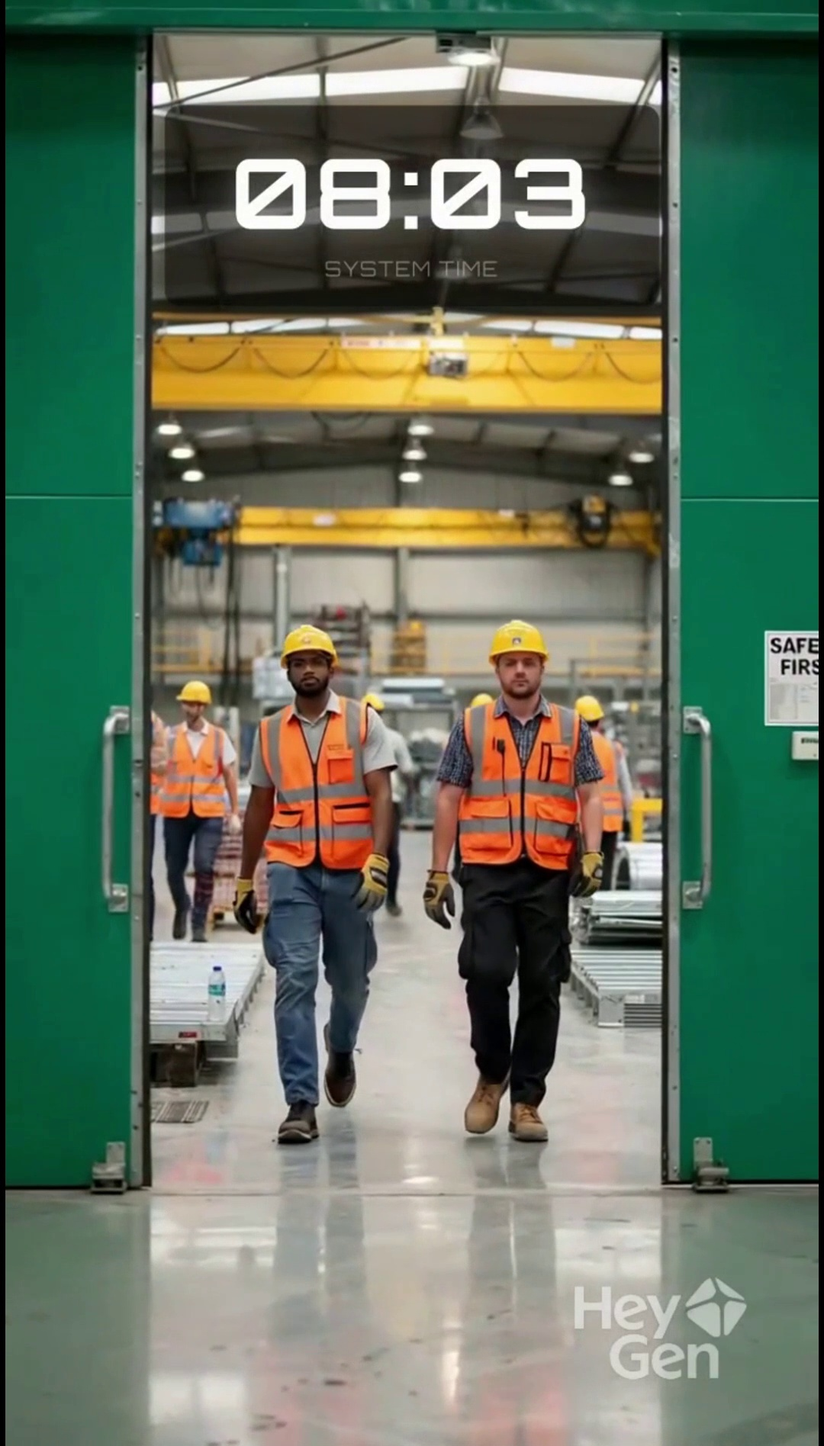Amir: (483, 618, 556, 711)
Sami: (273, 625, 352, 713)
porte_verte: (14, 36, 824, 1179)
temp: (166, 110, 653, 311)
